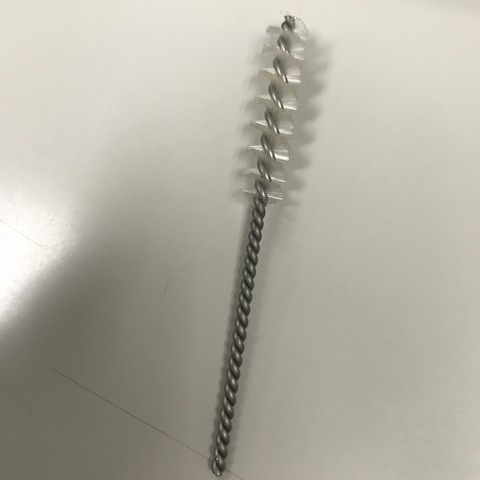Twist Brush-B: (198, 12, 328, 480)
